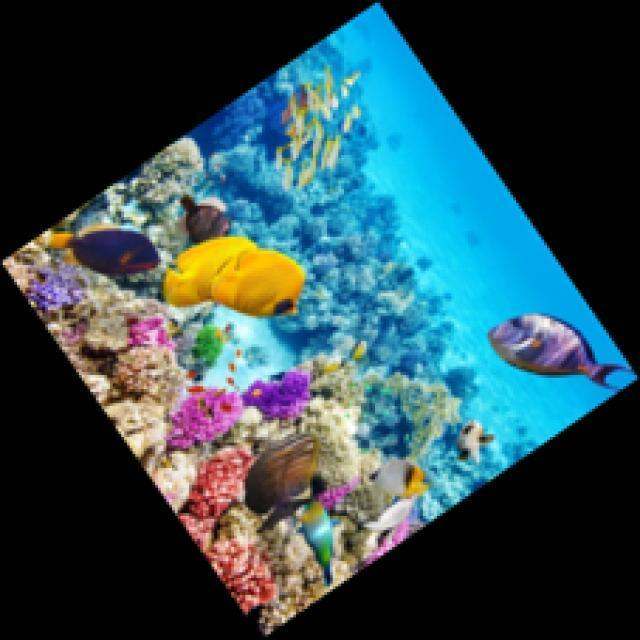Bleached: (1, 131, 381, 634)
Healthy: (175, 448, 254, 551), (205, 544, 279, 616), (166, 389, 243, 453), (242, 371, 312, 424), (26, 268, 86, 312), (365, 520, 412, 569), (125, 318, 176, 353), (194, 326, 227, 368), (317, 480, 361, 509)
